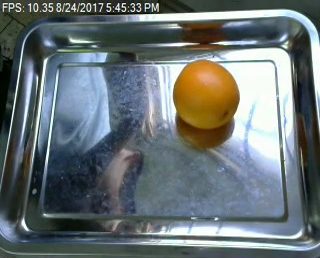Orange: (172, 59, 239, 129)
